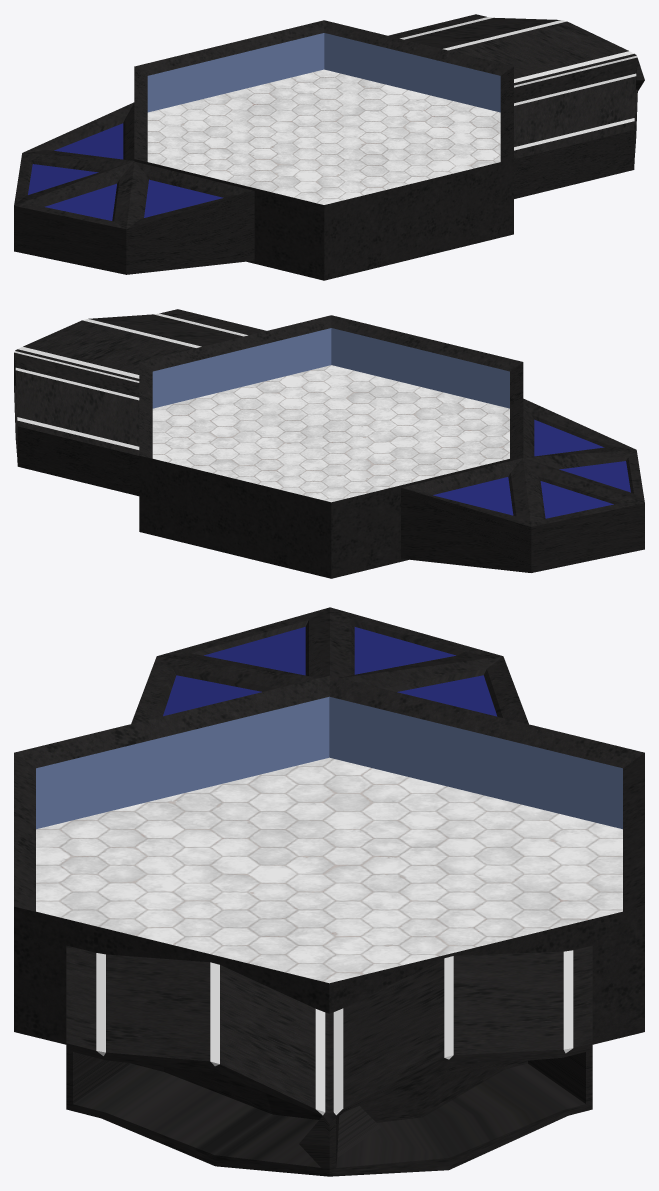
Rendered from DefenseSpaceship.fbx.
3 views of the same model, one above another, from view 1: azimuth 30°, elevation 25°; view 2: azimuth 150°, elevation 25°; view 3: azimuth 270°, elevation 25° (orthographic). The views are drawn at different scales.
Visible parts, largest first — view 1: Body, Head, Thrusters; view 2: Body, Head, Thrusters; view 3: Body, Thrusters, Head.
Boxes of the visible parts, left/top/right/bottom form: Body: left=134, top=20, right=513, bottom=280; Head: left=14, top=102, right=254, bottom=274; Thrusters: left=388, top=14, right=644, bottom=198; Body: left=139, top=315, right=523, bottom=578; Head: left=401, top=398, right=644, bottom=572; Thrusters: left=14, top=309, right=266, bottom=496; Body: left=14, top=675, right=644, bottom=1044; Thrusters: left=66, top=945, right=592, bottom=1176; Head: left=131, top=607, right=528, bottom=724.
Bounding box in the file's own units: 4907 × 567 × 2585.
